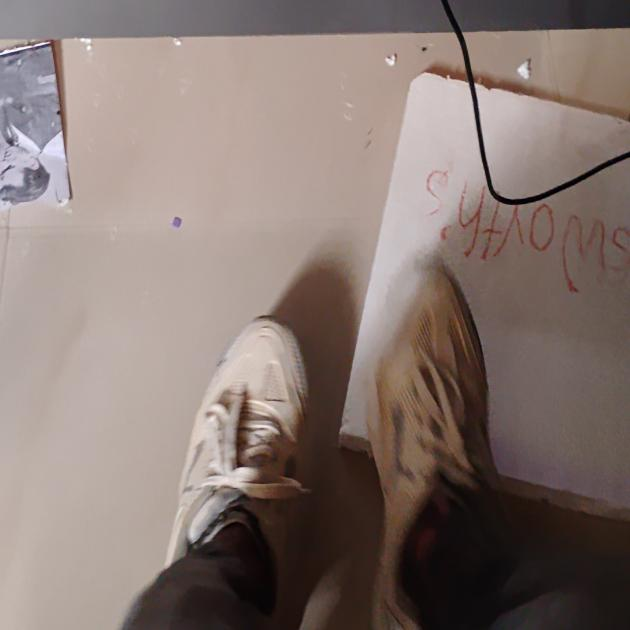shoes: (179, 216, 526, 629)
